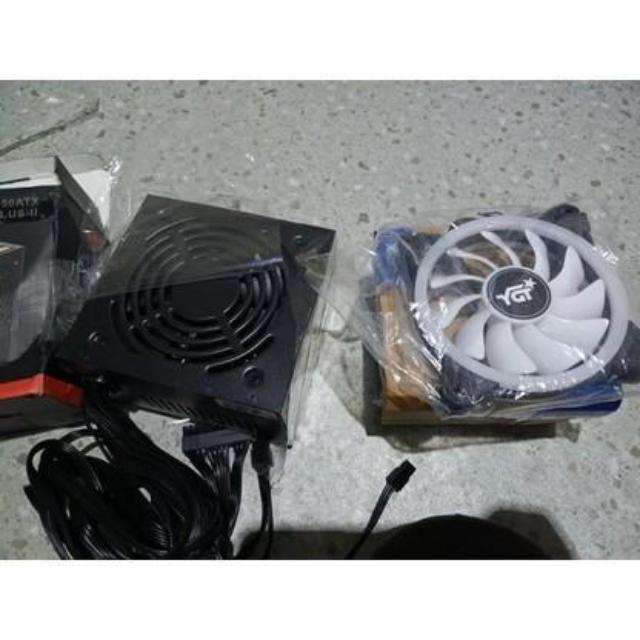PSU: (57, 175, 340, 450)
